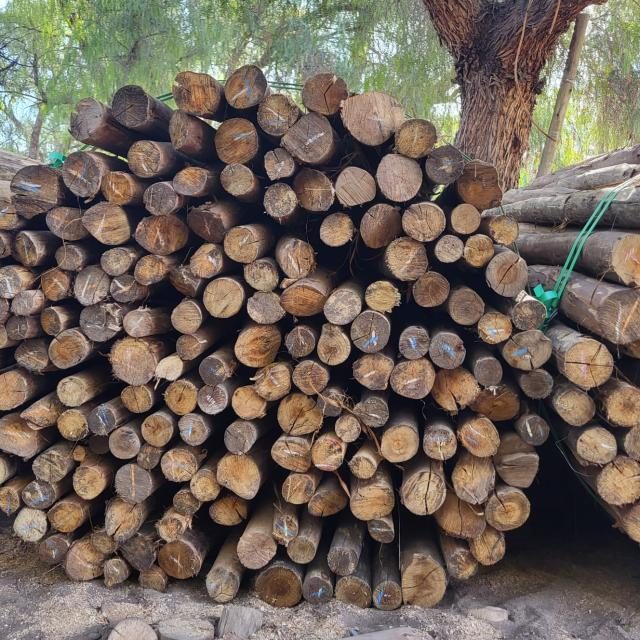package: (0, 67, 555, 603)
